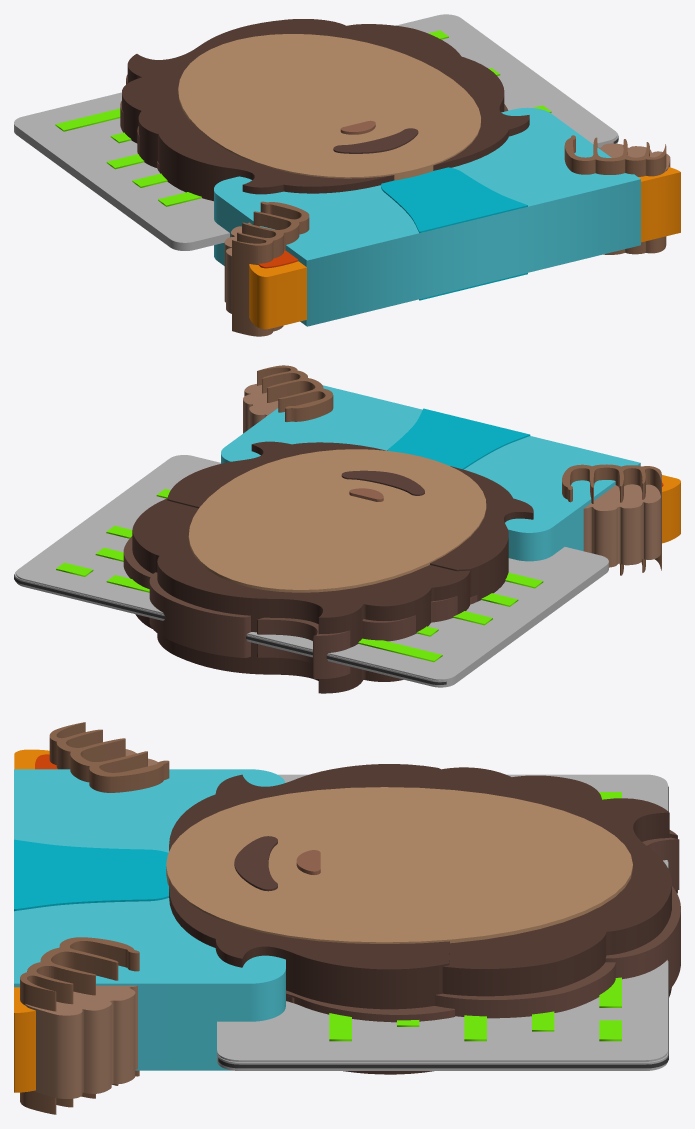
Rendered from emoji_u1f9d1_1f3fd_200d_1f4bb.glb.
3 views of the same model, one above another, from view 1: azimuth 30°, elevation 25°; view 2: azimuth 150°, elevation 25°; view 3: azimuth 270°, elevation 25° (orthographic). The views are drawn at different scales.
Parts seen in each view (by area): view 1: emoji_u1f9d1_1f3fd_200d_1f4bb; view 2: emoji_u1f9d1_1f3fd_200d_1f4bb; view 3: emoji_u1f9d1_1f3fd_200d_1f4bb.
Boxes of the visible parts, x1,y1,x2,y2 form: emoji_u1f9d1_1f3fd_200d_1f4bb: (14, 14, 680, 336); emoji_u1f9d1_1f3fd_200d_1f4bb: (14, 365, 680, 693); emoji_u1f9d1_1f3fd_200d_1f4bb: (14, 722, 680, 1114).
Bounding box in the file's own units: 0.0339 × 0.0068 × 0.0334.
